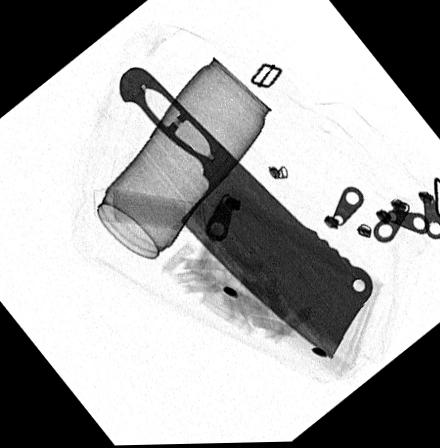Knife: (119, 65, 373, 359)
